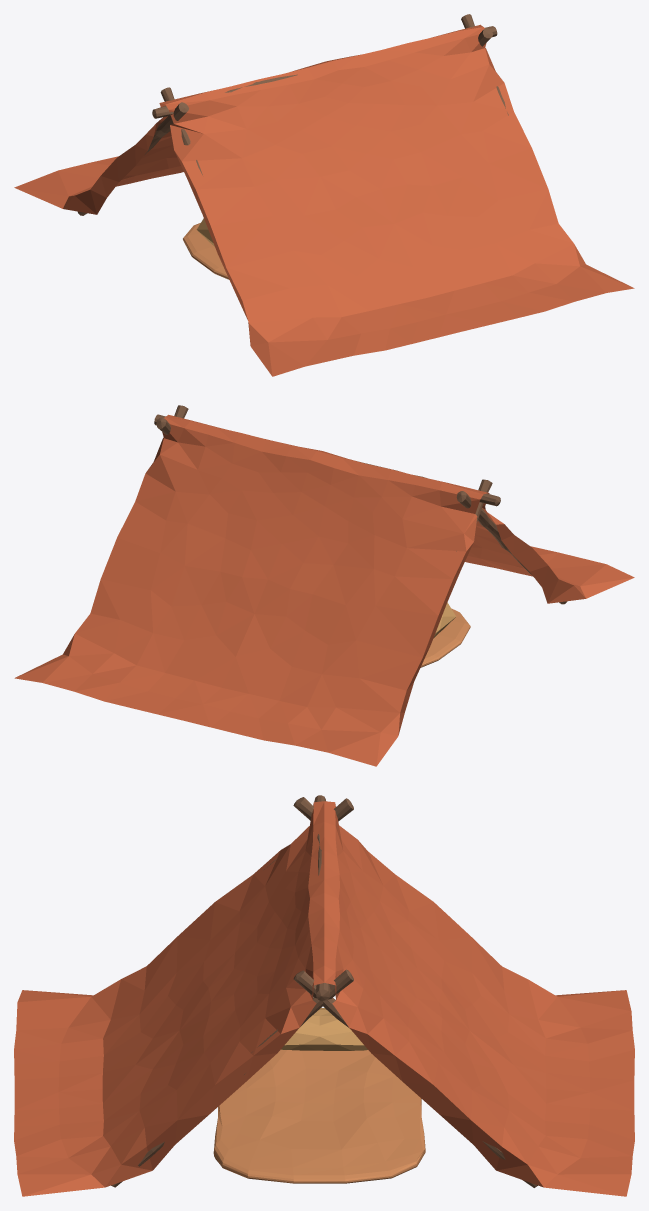
The model's file is AC_Tenda.fbx.
The picture shows the model from 3 angles, top to bottom: view 1: azimuth 30°, elevation 25°; view 2: azimuth 150°, elevation 25°; view 3: azimuth 270°, elevation 25°; orthographic projection. The views are drawn at different scales.
Parts seen in each view (by area): view 1: Plane; view 2: Plane; view 3: Plane.
Boxes of the visible parts, bbox=[...] form: Plane: bbox=[14, 14, 634, 376]; Plane: bbox=[14, 405, 634, 766]; Plane: bbox=[14, 795, 634, 1196].
Size of the model in its own units: 481 by 236 by 610.
